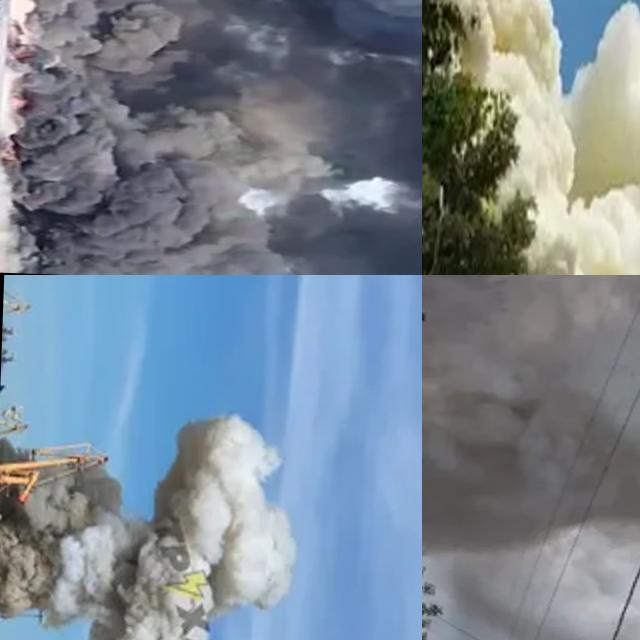smoke: (9, 0, 422, 275), (0, 406, 302, 640), (422, 275, 640, 595), (504, 0, 640, 275)
